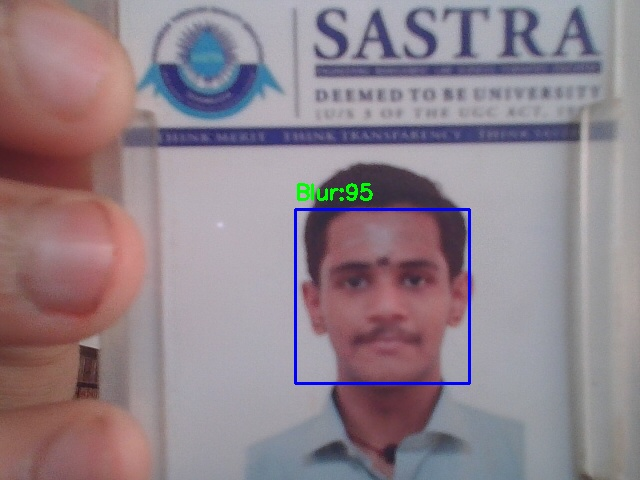fake: (295, 209, 469, 383)
